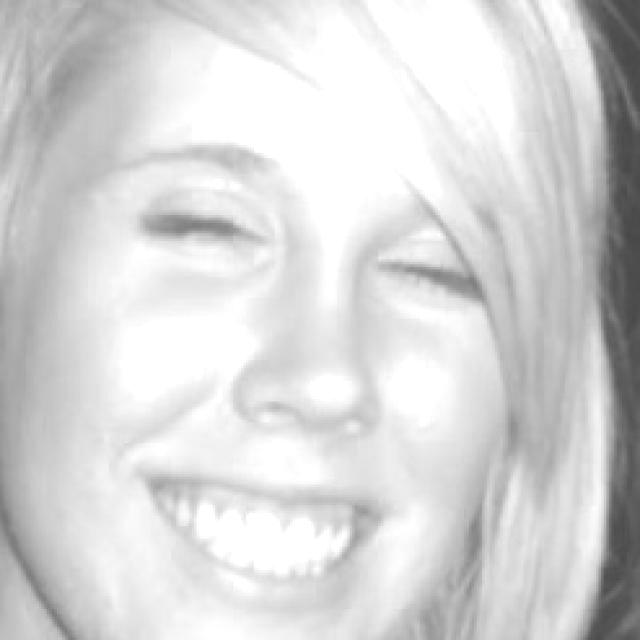real: (4, 0, 518, 634), (132, 175, 506, 326)
